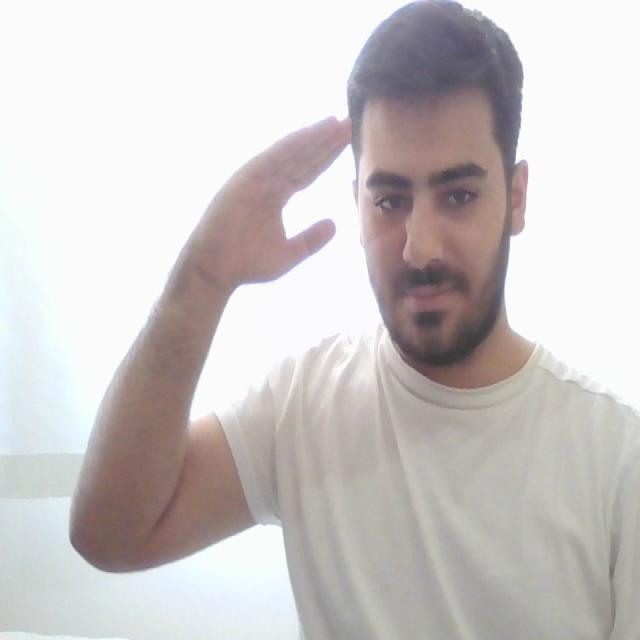Merhaba: (204, 88, 387, 346)
